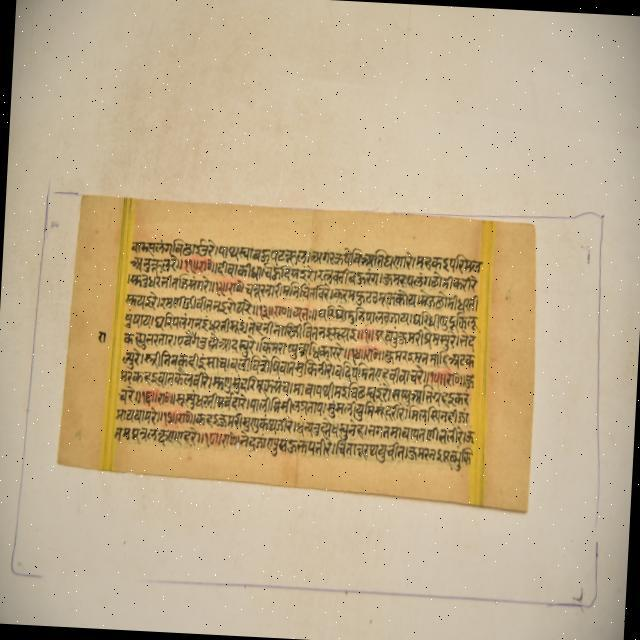text_paragraph: (57, 197, 532, 514)
